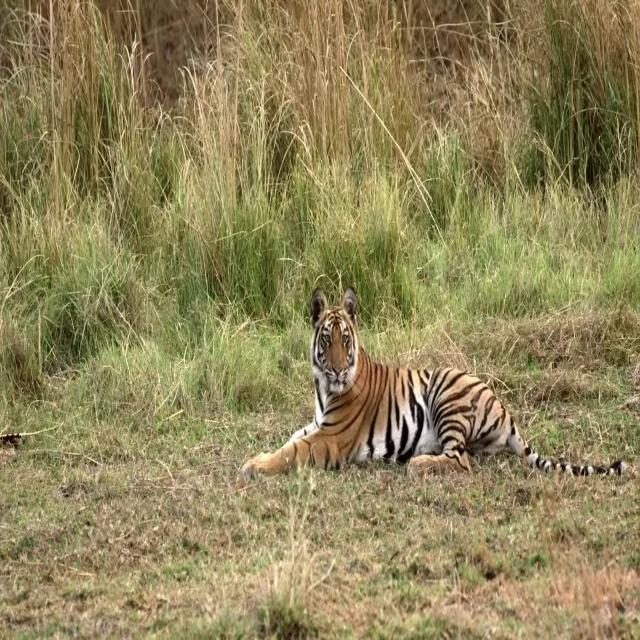tiger: (238, 286, 627, 484)
